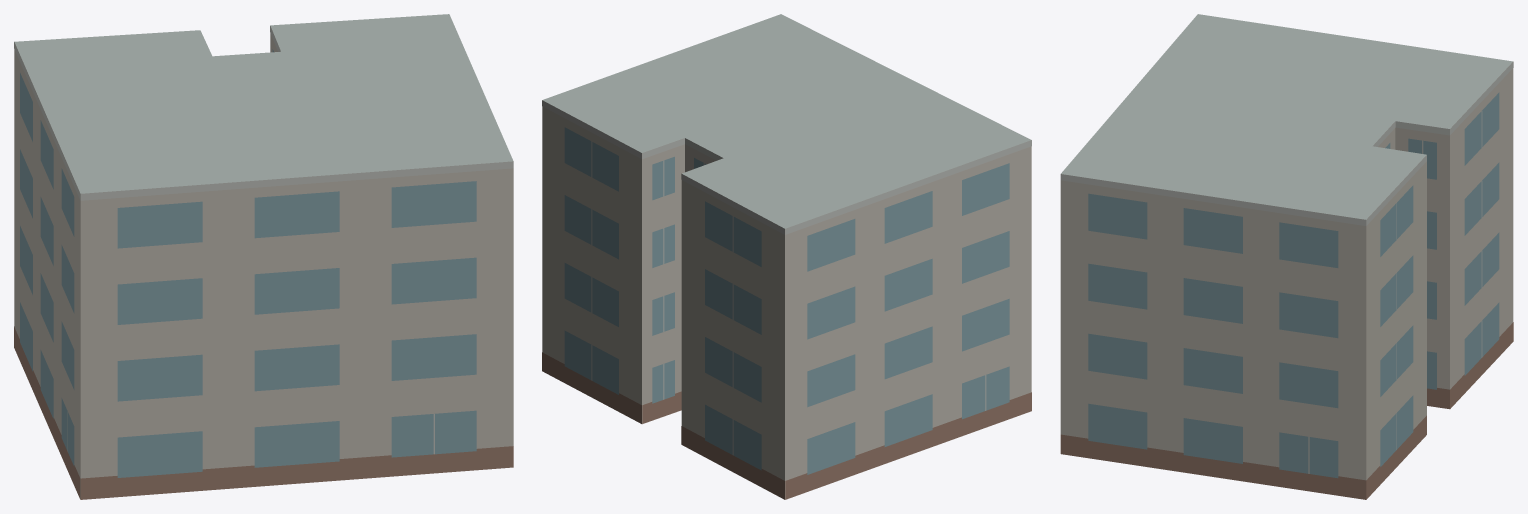
The model's file is survey-upis-32698091.glb.
3 views of the same model, side by side, from view 1: azimuth 30°, elevation 25°; view 2: azimuth 150°, elevation 25°; view 3: azimuth 270°, elevation 25° (orthographic). The views are drawn at different scales.
Parts seen in each view (by area): view 1: survey-upis-32698091.tmp; view 2: survey-upis-32698091.tmp; view 3: survey-upis-32698091.tmp.
Part boxes in pixels (<box>): survey-upis-32698091.tmp: <box>14,14,513,499</box>; survey-upis-32698091.tmp: <box>542,14,1031,499</box>; survey-upis-32698091.tmp: <box>1060,14,1513,499</box>.
Bounding box in the file's own units: 16.87 × 10.7 × 15.69.
